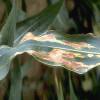Corn leaf blight: (0, 30, 99, 73)
